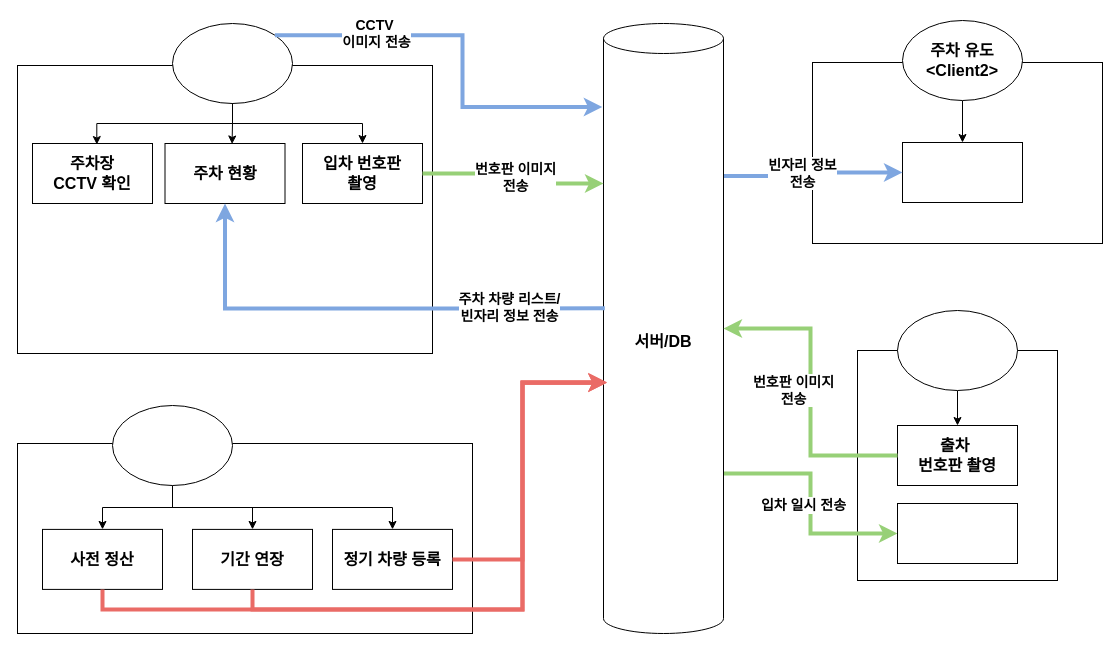
Some shapes in this 1120 by 652 pixel diagram are drawn without their labels. Here are the shapes that lost their labels. From the top down, the box of each, then its label:
(172, 22, 292, 104): 주차차량 관리 <Client1>
(902, 142, 1022, 202): 빈자리 LED 점등
(896, 310, 1018, 390): 출구 정산 <Client4>
(112, 404, 232, 486): 사전 정산/ 정기차량 관리 <Client3>
(896, 502, 1018, 564): 출구 정산
